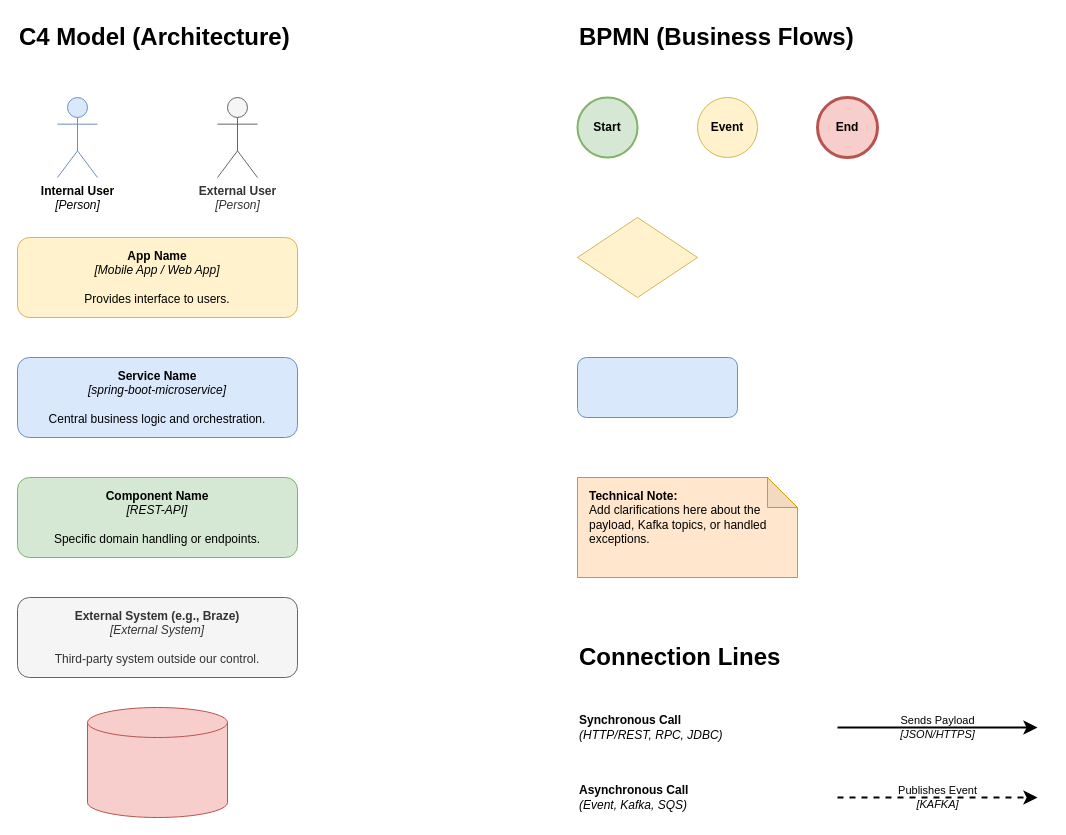
Image size: 1066x835. Some labels were removed from this diagram. Here are the shapes that lost their labels. From the top down, the centre of each, then its label:
pixel 637 257: Condition?
pixel 657 387: Execute Task Process information
pixel 157 762: Database [MongoDB / PostgreSQL] State storage.
